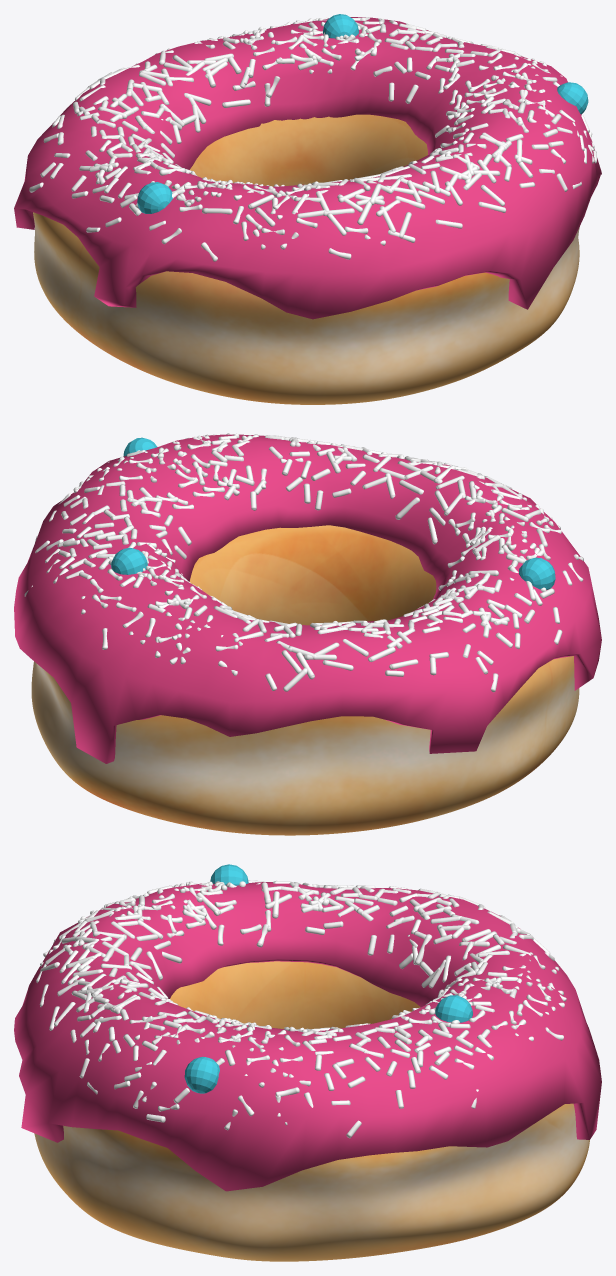
3 renders of one model, top to bottom at view 1: azimuth 30°, elevation 25°; view 2: azimuth 150°, elevation 25°; view 3: azimuth 270°, elevation 25°, orthographic. The views are drawn at different scales.
Parts seen in each view (by area): view 1: Icing, Donut, Sphere.002, Sphere.003, Sphere.001; view 2: Icing, Donut, Sphere.002, Sphere.003; view 3: Icing, Donut, Sphere.001, Sphere.003, Sphere.002.
Boxes of the visible parts, box(x1,y1,x2,y2) form: Icing: box(14, 17, 601, 319); Donut: box(33, 114, 579, 404); Sphere.002: box(137, 182, 172, 213); Sphere.003: box(323, 14, 358, 38); Sphere.001: box(557, 82, 588, 114); Icing: box(14, 434, 601, 763); Donut: box(31, 525, 579, 835); Sphere.002: box(519, 557, 555, 589); Sphere.003: box(111, 547, 147, 574); Icing: box(14, 882, 601, 1191); Donut: box(34, 961, 589, 1261); Sphere.001: box(184, 1056, 219, 1093); Sphere.003: box(435, 995, 472, 1022); Sphere.002: box(210, 864, 248, 885).
Bounding box in the file's own units: 3.64 × 1.53 × 3.55.
7 materials, 1 textured.
